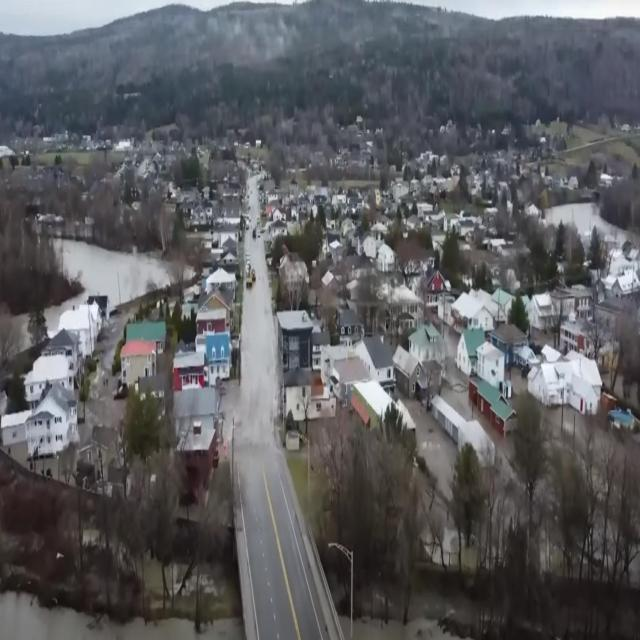flood: (44, 239, 173, 334), (0, 591, 244, 640), (545, 201, 640, 249), (355, 617, 459, 640), (0, 305, 28, 358)
house: (526, 344, 602, 418), (22, 383, 80, 459), (179, 410, 217, 490), (275, 310, 315, 384), (391, 342, 428, 403), (119, 338, 159, 389), (333, 352, 367, 407), (126, 316, 168, 356), (60, 310, 95, 358), (195, 288, 233, 332), (197, 332, 233, 378), (172, 345, 206, 393), (458, 325, 485, 385), (476, 339, 505, 394), (361, 334, 393, 379), (529, 290, 555, 336), (398, 285, 425, 320), (614, 269, 640, 299), (429, 270, 445, 306), (379, 243, 394, 274), (222, 236, 237, 265), (363, 233, 378, 258), (457, 218, 474, 240), (192, 204, 208, 227), (271, 218, 288, 237)
